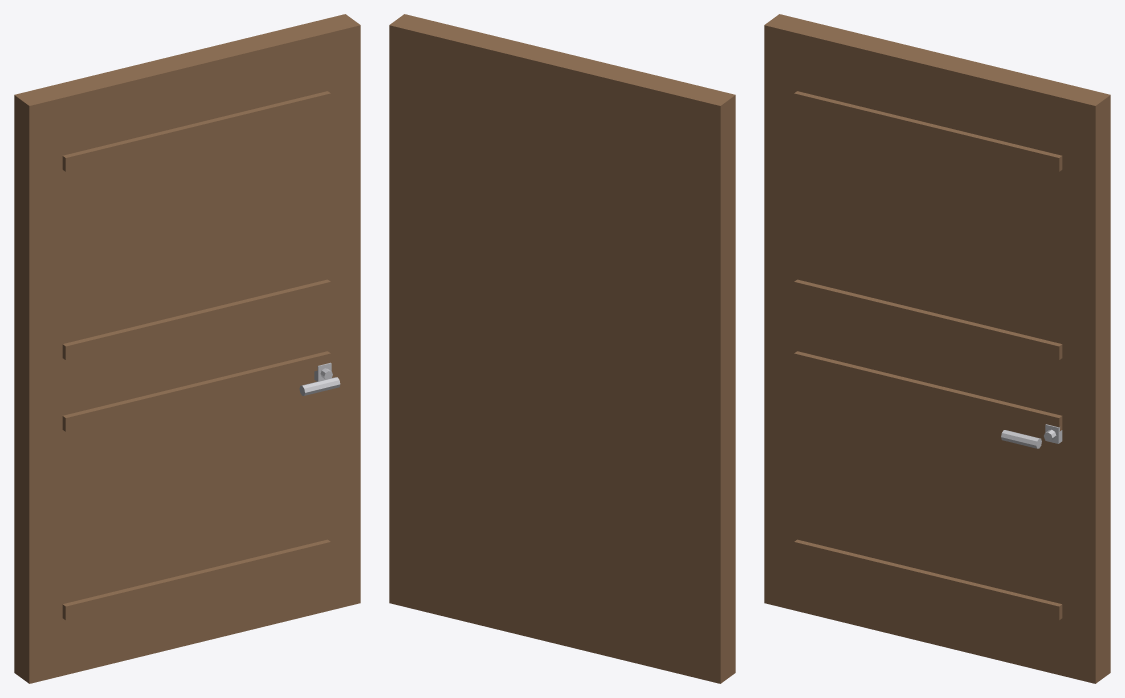
Rendered from Door.fbx.
The picture shows the model from 3 angles, left to right: view 1: azimuth 30°, elevation 25°; view 2: azimuth 150°, elevation 25°; view 3: azimuth 330°, elevation 25°; orthographic projection.
Visible parts, largest first — view 1: Door; view 2: Door; view 3: Door.
Boxes of the visible parts, x1,y1,x2,y2 form: Door: [14, 14, 360, 683]; Door: [389, 14, 735, 683]; Door: [764, 14, 1110, 683].
Size of the model in its own units: 1.5 by 2.5 by 0.272.
